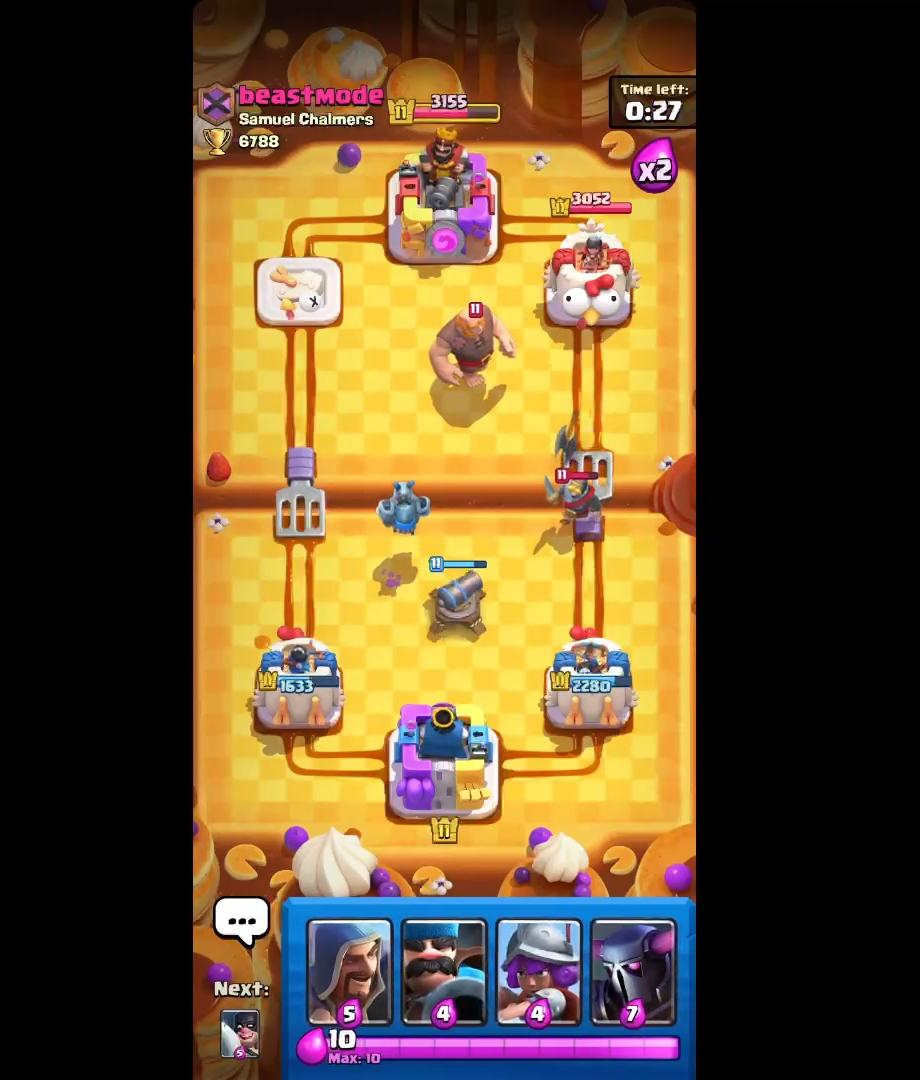Giant: (421, 300, 515, 405)
Knight: (536, 465, 618, 534)
